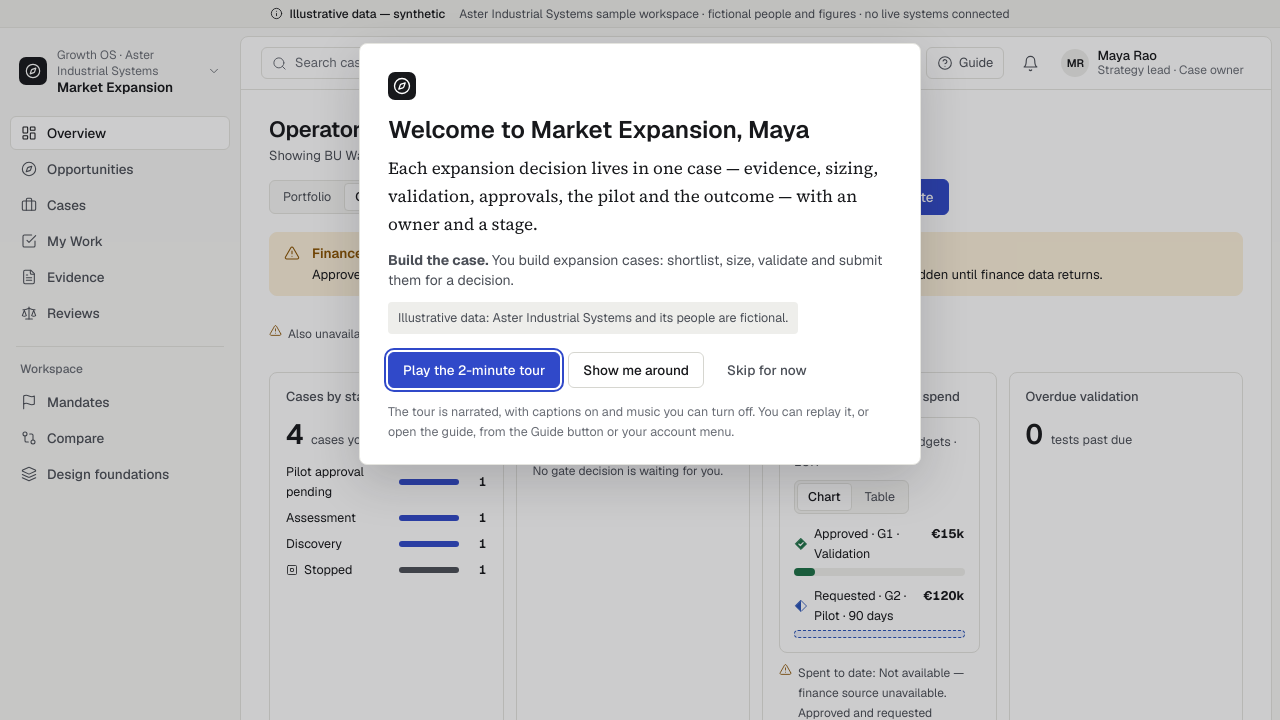
Test: first login › plays the tour after the click, and Skip closes it
Click the button "Play the 2-minute tour". click: (474, 370)
box: 388,352 -> 560,388
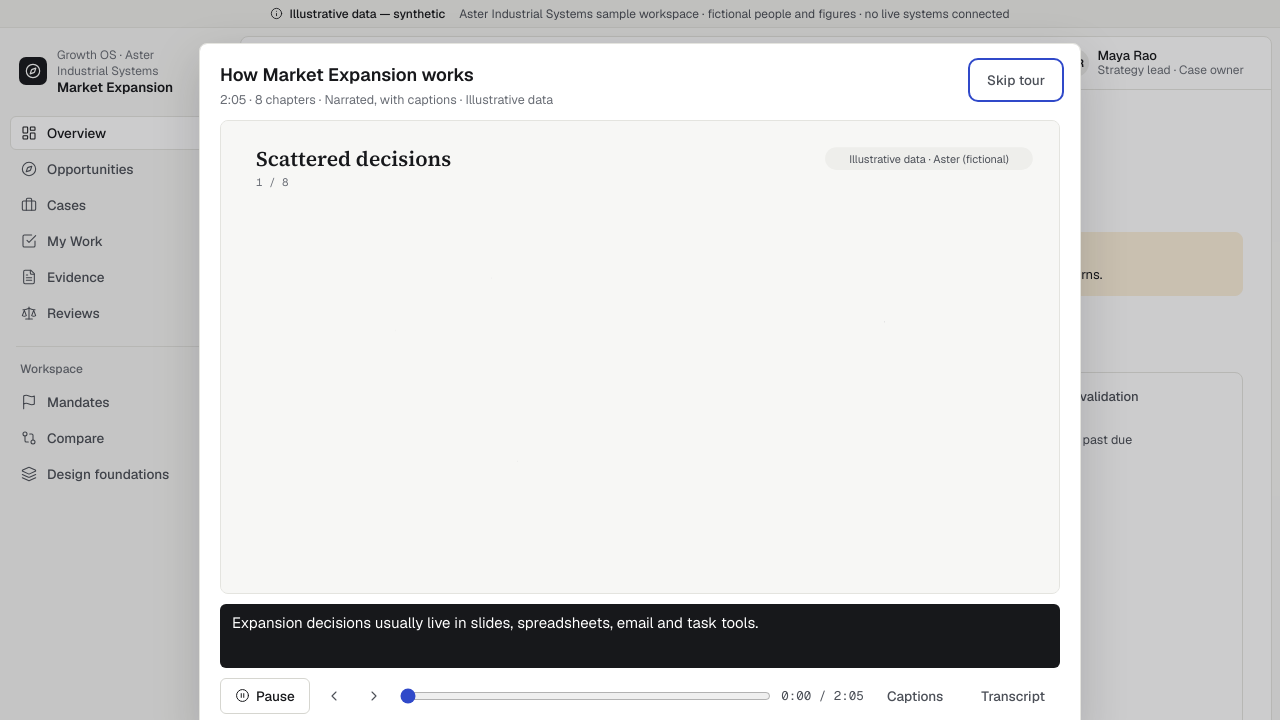
Expected: the button "Pause" is shown, 220,678 -> 310,714
Expected: the text "Narrated, with captions" is shown, 316,91 -> 553,108
Click the button "Skip tour". click: (1016, 80)
box: 972,62 -> 1060,98
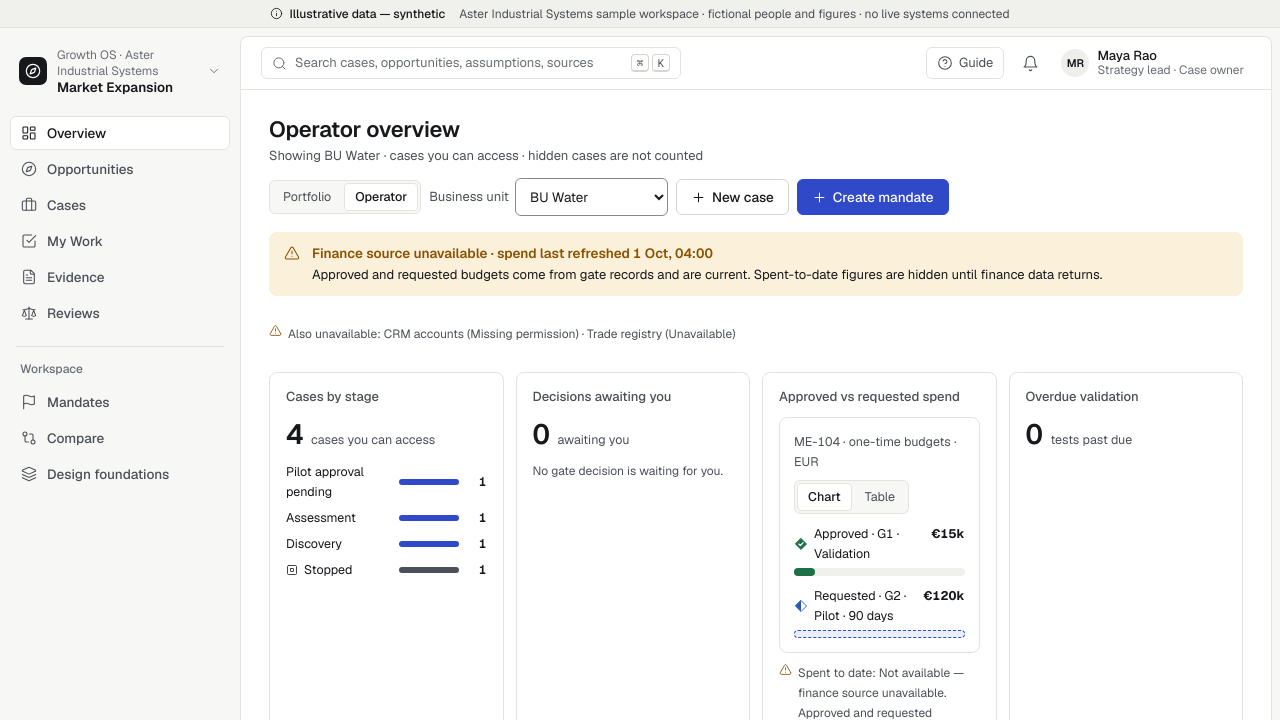
Expected: the heading "How Market Expansion works" is gone
